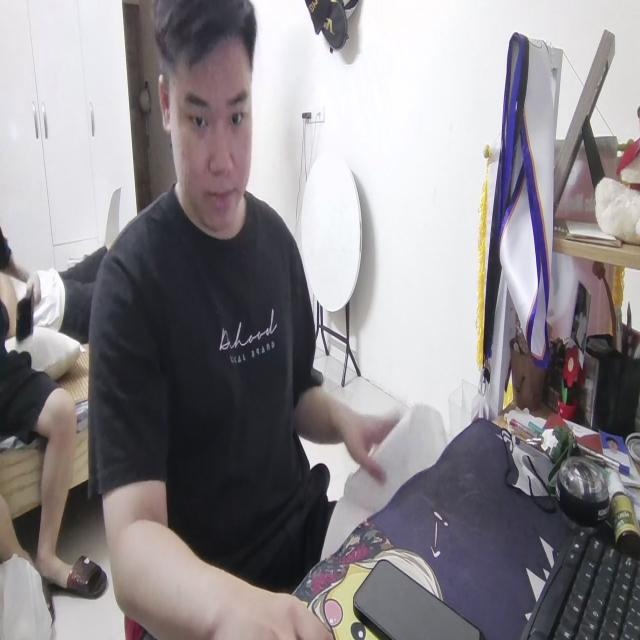book: (331, 409, 438, 531)
extra_person: (0, 259, 95, 640)
phone: (348, 557, 488, 640)
student: (101, 1, 400, 640)
